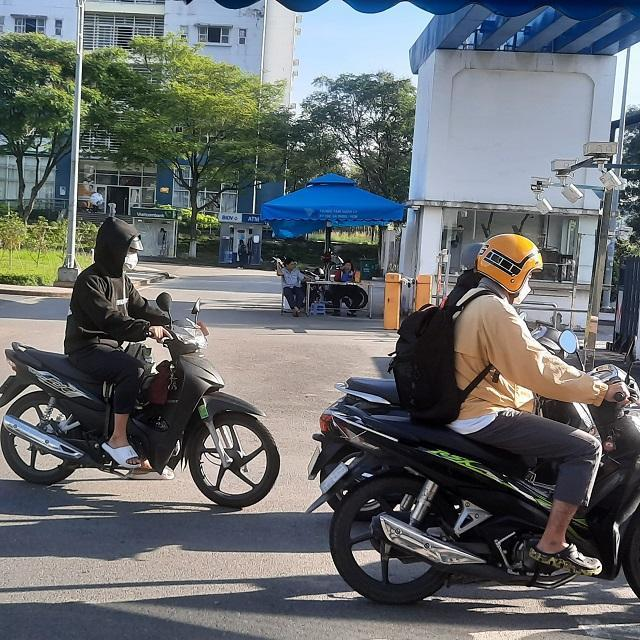Helmet: (472, 231, 546, 297)
